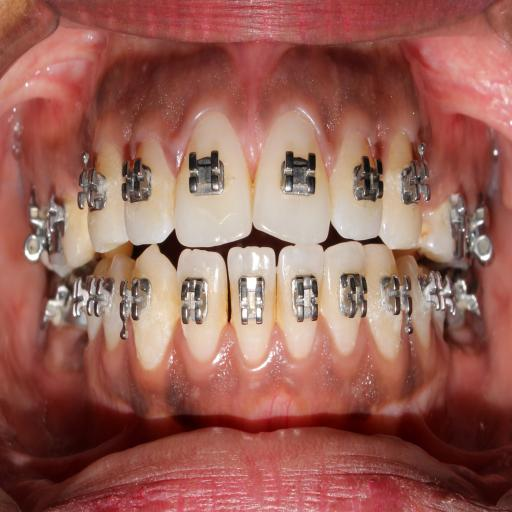correct_brace: (190, 148, 226, 202), (280, 148, 318, 199), (350, 152, 384, 206), (120, 157, 154, 207), (402, 160, 432, 211), (77, 170, 108, 216)
incorrect_brace: (122, 134, 176, 250), (332, 126, 384, 238)
